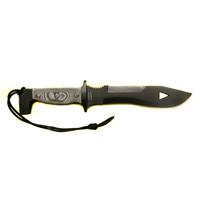knife: (4, 82, 198, 115)
